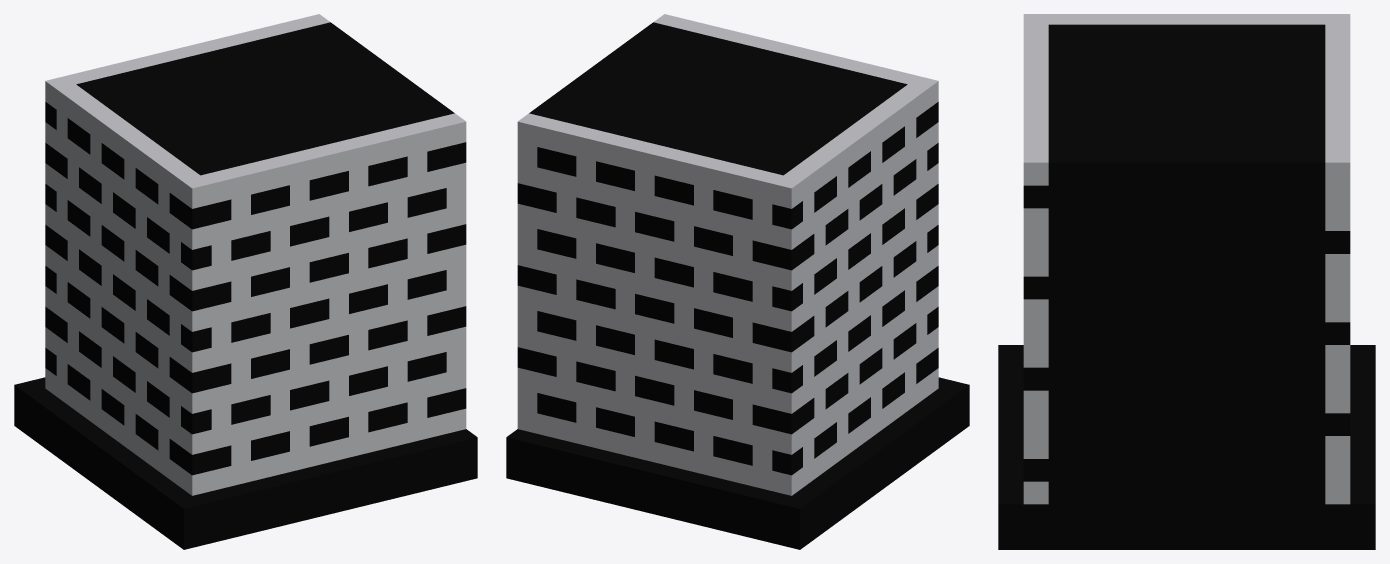
File: dungeon_d_b_inner_wall_ending.obj
3 renders of one model, left to right at view 1: azimuth 30°, elevation 25°; view 2: azimuth 150°, elevation 25°; view 3: azimuth 270°, elevation 25°, orthographic. The views are drawn at different scales.
Bounding box in the file's own units: 1.5 × 1.7 × 1.5.
Materials: 1 (1 with a texture image).
